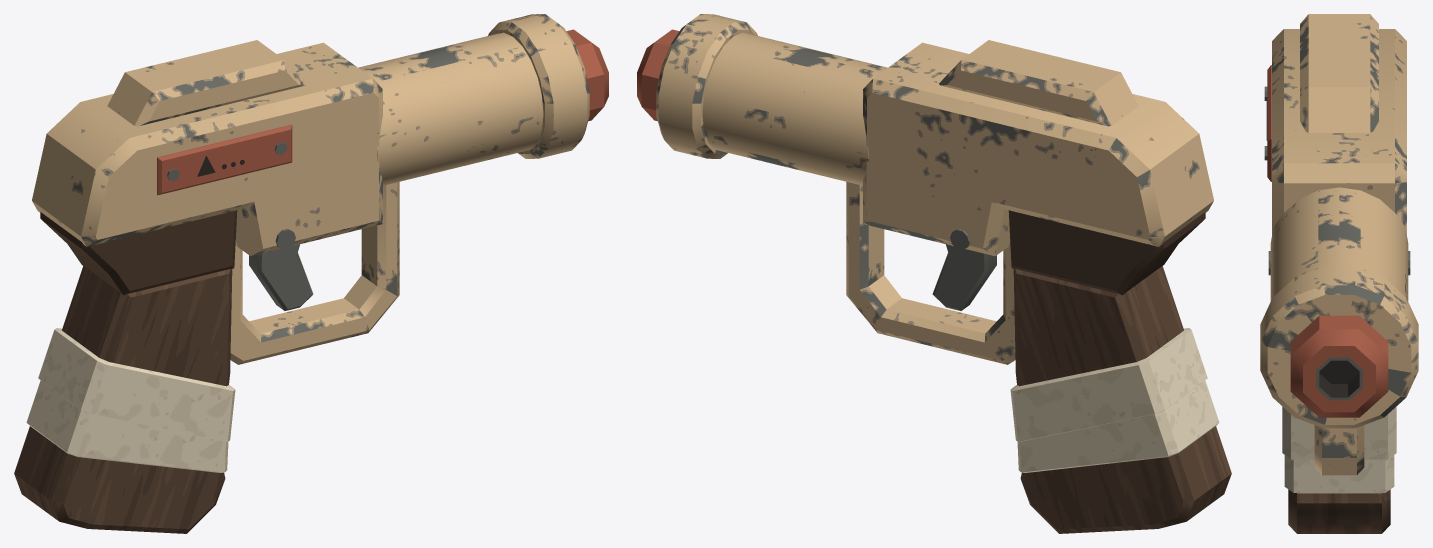
The model's file is practice_gun.glb.
3 views of the same model, side by side, from view 1: azimuth 30°, elevation 25°; view 2: azimuth 150°, elevation 25°; view 3: azimuth 270°, elevation 25° (orthographic). The views are drawn at different scales.
Parts seen in each view (by area): view 1: practice_gun; view 2: practice_gun; view 3: practice_gun.
Part boxes in pixels (<box>): practice_gun: <box>14,14,608,533</box>; practice_gun: <box>637,14,1231,533</box>; practice_gun: <box>1260,14,1418,533</box>.
Size of the model in its own units: 0.2496 by 0.1897 by 0.0539.
Materials: 1 (1 with a texture image).
